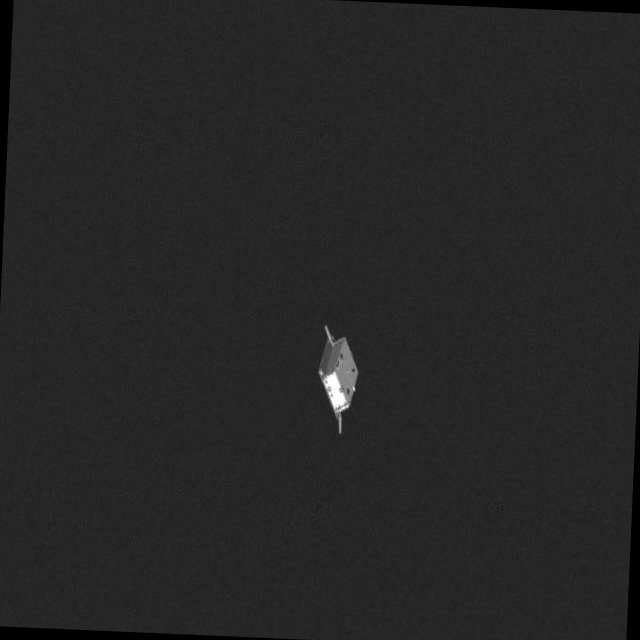medium_debris: (307, 314, 362, 434)
